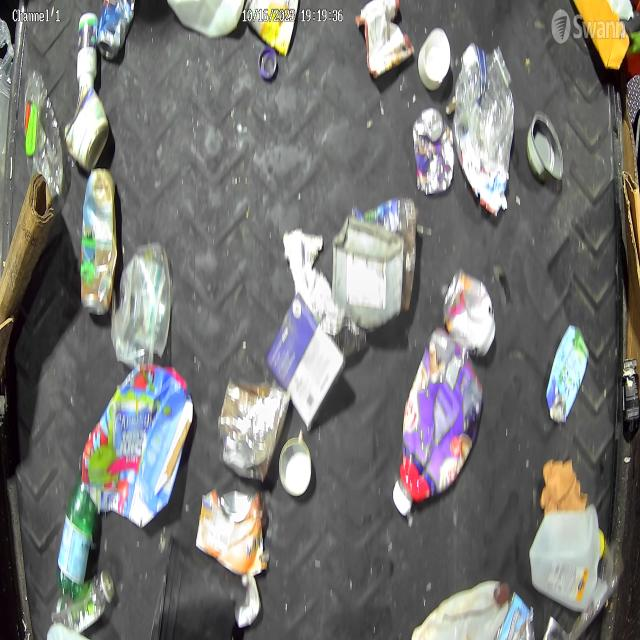can: (218, 377, 290, 481), (196, 486, 267, 570), (442, 268, 498, 362), (64, 88, 111, 175), (412, 106, 455, 198), (525, 110, 565, 186), (95, 0, 138, 62), (279, 432, 314, 498)
milk_jug: (531, 499, 606, 611), (412, 570, 512, 640)
non_white_jug: (393, 325, 485, 522)
plastic_bottle: (50, 565, 115, 638)
